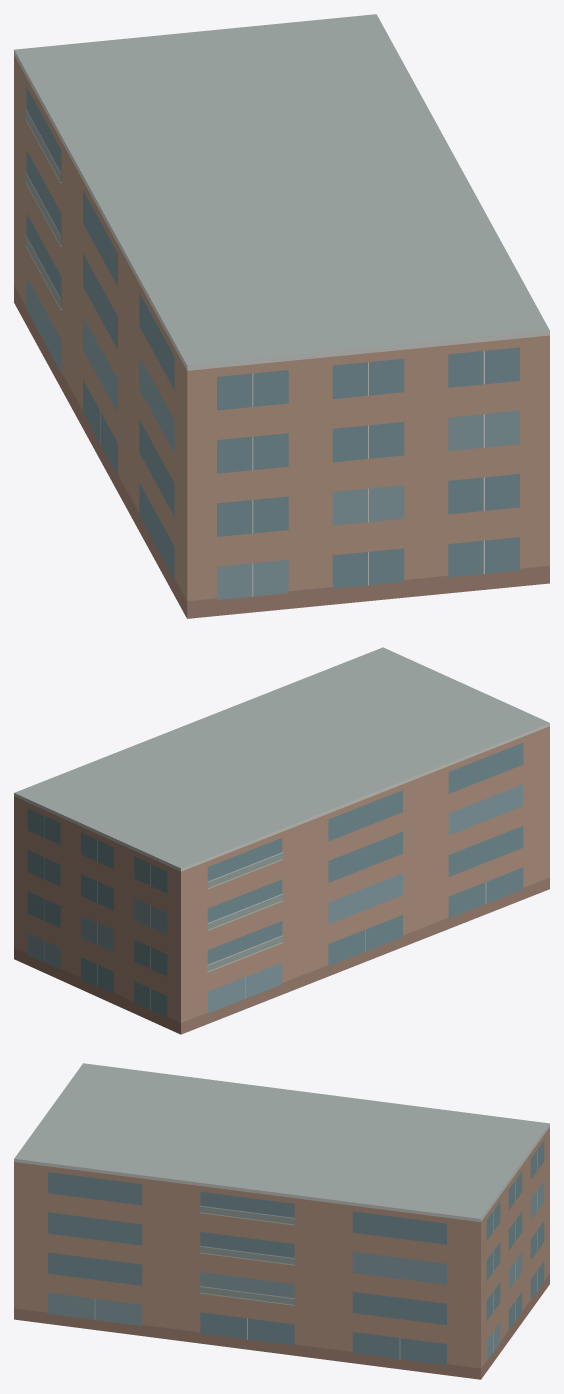
Rendered from residential-89069456-794f-4878-84ac-3cbf57ca0f55.glb.
The picture shows the model from 3 angles, top to bottom: view 1: azimuth 30°, elevation 25°; view 2: azimuth 150°, elevation 25°; view 3: azimuth 270°, elevation 25°; orthographic projection. The views are drawn at different scales.
Parts seen in each view (by area): view 1: residential-89069456-794f-4878-84ac-3cbf57ca0f55.tmp; view 2: residential-89069456-794f-4878-84ac-3cbf57ca0f55.tmp; view 3: residential-89069456-794f-4878-84ac-3cbf57ca0f55.tmp.
Part boxes in pixels (left/top/right/bottom): residential-89069456-794f-4878-84ac-3cbf57ca0f55.tmp: left=14, top=14, right=549, bottom=618; residential-89069456-794f-4878-84ac-3cbf57ca0f55.tmp: left=14, top=647, right=549, bottom=1034; residential-89069456-794f-4878-84ac-3cbf57ca0f55.tmp: left=14, top=1063, right=549, bottom=1379.
Bounding box in the file's own units: 25.37 × 12.2 × 36.87.
